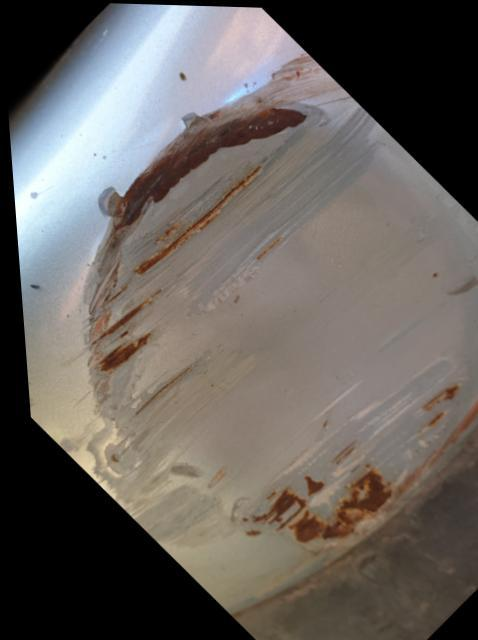dent: (71, 86, 478, 548)
scratch: (23, 394, 226, 549), (253, 37, 383, 143)
